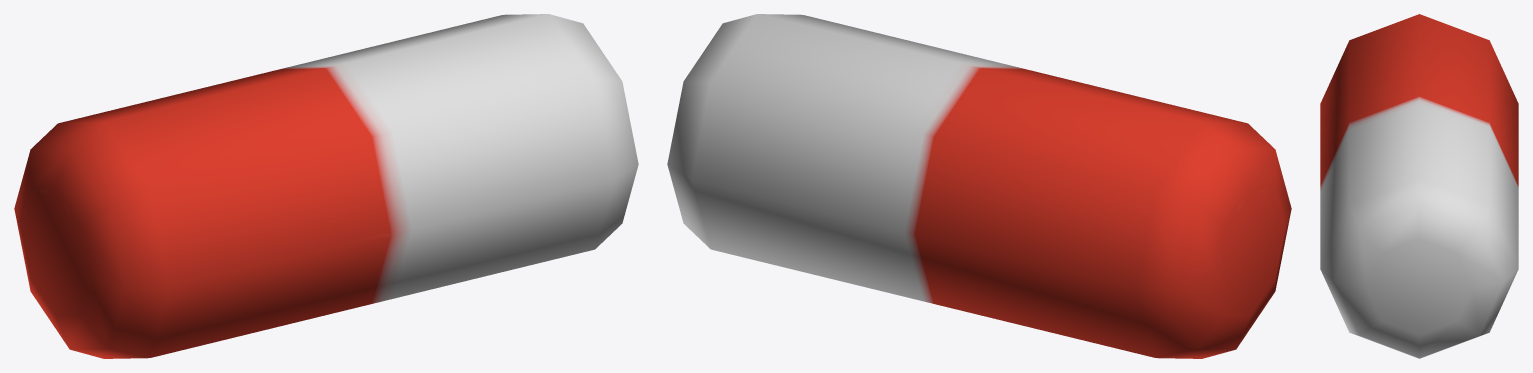
The model's file is pills_3.fbx.
3 views of the same model, side by side, from view 1: azimuth 30°, elevation 25°; view 2: azimuth 150°, elevation 25°; view 3: azimuth 270°, elevation 25° (orthographic). The views are drawn at different scales.
Visible parts, largest first — view 1: pills_3; view 2: pills_3; view 3: pills_3.
Boxes of the visible parts, left/top/right/bottom form: pills_3: left=14, top=14, right=638, bottom=358; pills_3: left=667, top=14, right=1291, bottom=358; pills_3: left=1320, top=14, right=1518, bottom=358.
Bounding box in the file's own units: 0.0139 × 0.0058 × 0.0058.
